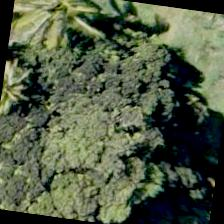Kelapa_Sawit: (20, 117, 122, 219), (7, 0, 105, 63), (0, 53, 55, 150)
